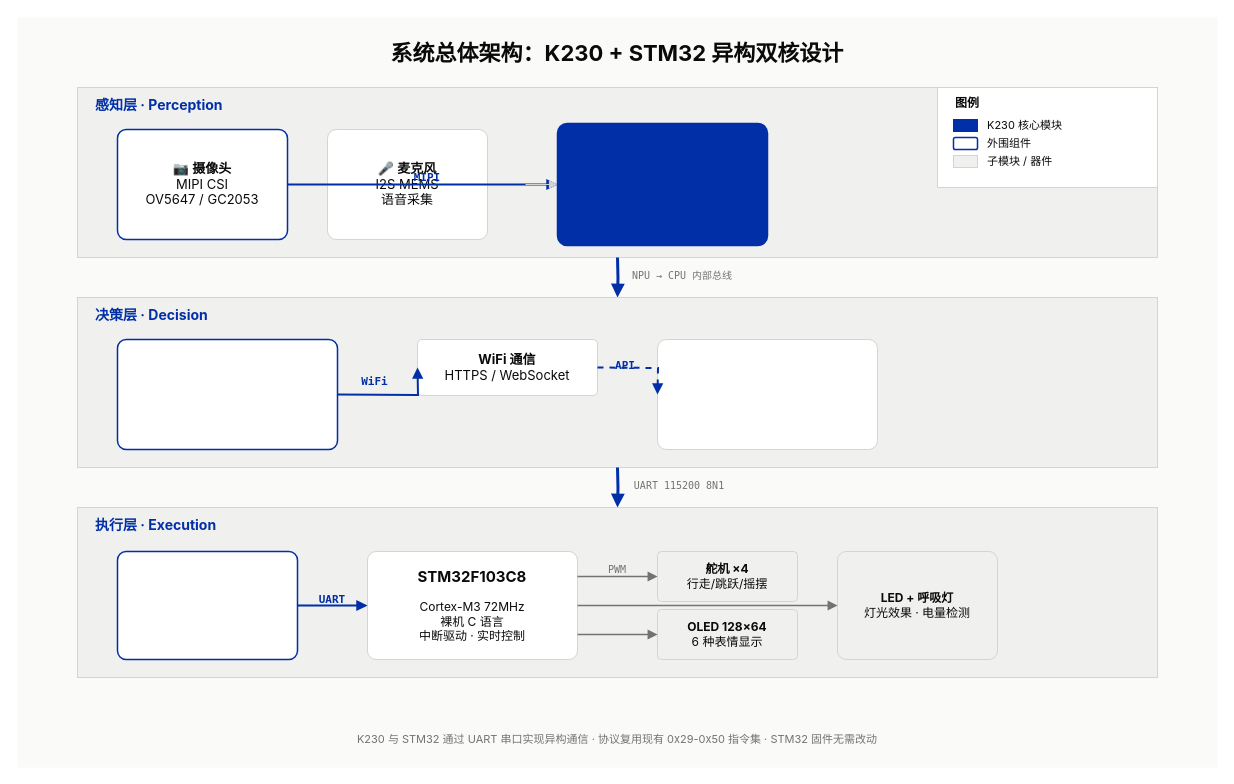
Some shapes in this 1234 by 784 pixel diagram are drawn without their labels. The box of each missing label's shape, as (x1, y1, x2, y2) in pixels:
K230 CPU RISC-V 双核 64bit Linux + Python 3.x 主控逻辑 · 线程调度 情绪映射 · 指令决策: (116, 338, 338, 450)
K230 NPU 1.6 TOPS 算力 人脸检测 · 特征提取 kmodel 本地推理 推理延迟 < 10ms: (556, 122, 768, 246)
UART 桥接 PB10 / PB11 USART3 单字节指令协议 0x29 - 0x50: (116, 550, 298, 660)
☁️ 云端 LLM DeepSeek / 通义千问 自然语言对话生成 情绪分析 · TTS 合成: (656, 338, 878, 450)
